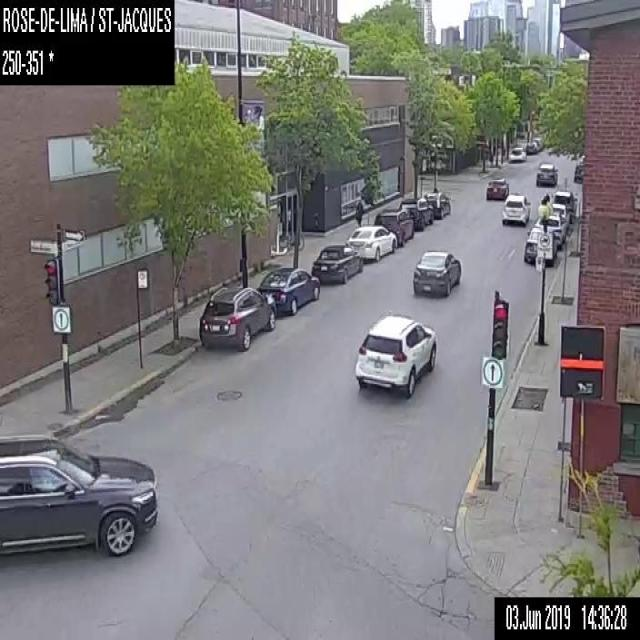pedestrian: (354, 198, 362, 225)
vehicle: (0, 433, 158, 558), (354, 314, 436, 398), (197, 284, 275, 351), (260, 265, 320, 313), (412, 248, 461, 296), (312, 245, 362, 283), (346, 224, 396, 258), (374, 206, 413, 242), (523, 226, 559, 262), (500, 193, 531, 225), (399, 198, 433, 227), (421, 190, 451, 217), (534, 163, 556, 185), (486, 177, 509, 197), (507, 144, 526, 161), (544, 231, 546, 232)
